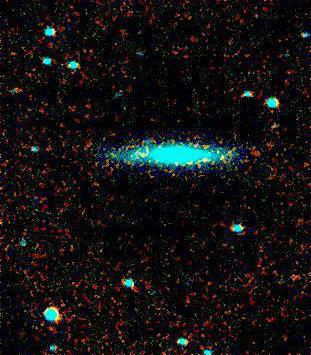star: (126, 140, 156, 170)
